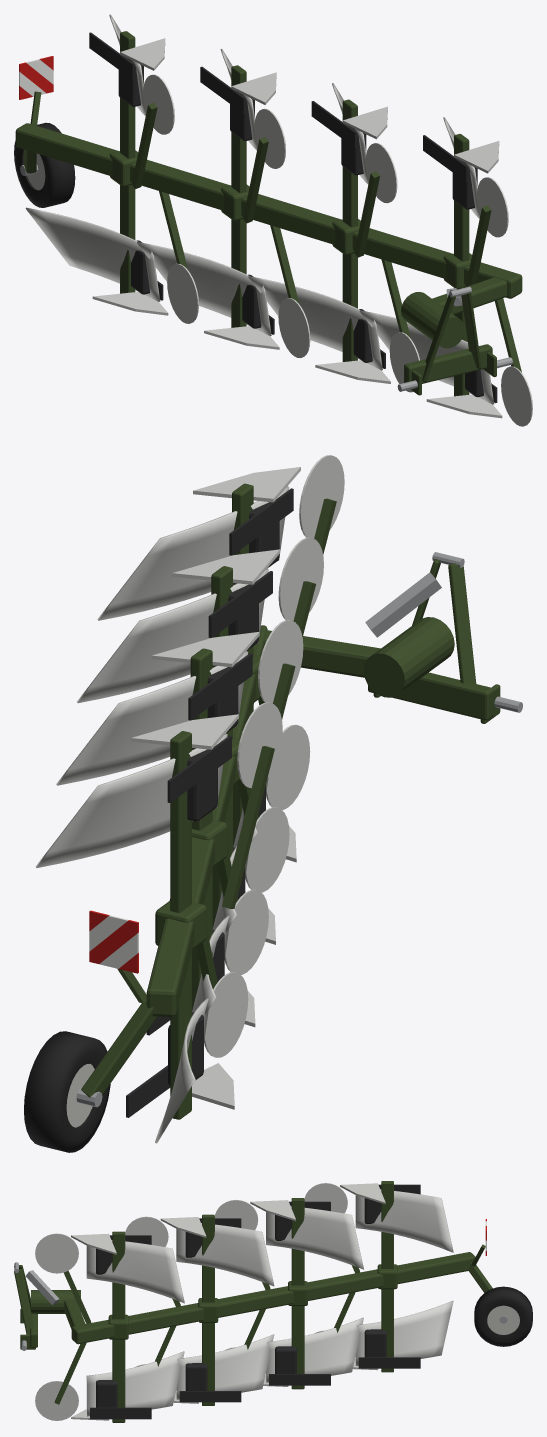
Rendered from arado.glb.
The picture shows the model from 3 angles, top to bottom: view 1: azimuth 30°, elevation 25°; view 2: azimuth 150°, elevation 25°; view 3: azimuth 270°, elevation 25°; orthographic projection. The views are drawn at different scales.
Parts seen in each view (by area): view 1: bastidor, rejas, vertederas, cuchillas, rueda_control, senales; view 2: bastidor, vertederas, rejas, cuchillas, rueda_control, senales; view 3: vertederas, bastidor, rejas, cuchillas, rueda_control.
Boxes of the visible parts, x1=… form: bastidor: x1=15, y1=31, x2=522, y2=396; rejas: x1=89, y1=32, x2=521, y2=418; vertederas: x1=25, y1=14, x2=494, y2=404; cuchillas: x1=143, y1=74, x2=532, y2=426; rueda_control: x1=14, y1=122, x2=75, y2=207; senales: x1=19, y1=56, x2=53, y2=99; bastidor: x1=117, y1=483, x2=522, y2=1119; vertederas: x1=35, y1=486, x2=289, y2=1143; rejas: x1=126, y1=467, x2=336, y2=1117; cuchillas: x1=204, y1=455, x2=344, y2=1057; rueda_control: x1=24, y1=1001, x2=157, y2=1152; senales: x1=89, y1=910, x2=138, y2=973; vertederas: x1=86, y1=1189, x2=453, y2=1416; bastidor: x1=14, y1=1181, x2=485, y2=1422; rejas: x1=54, y1=1183, x2=420, y2=1420; cuchillas: x1=35, y1=1183, x2=347, y2=1420; rueda_control: x1=468, y1=1262, x2=532, y2=1346.
Size of the model in its own units: 2.13 by 2.1 by 5.21.
